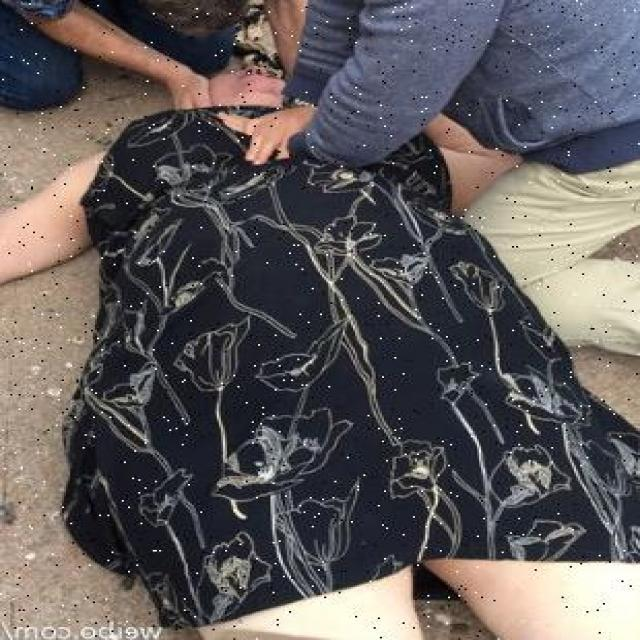fall: (33, 75, 634, 636)
